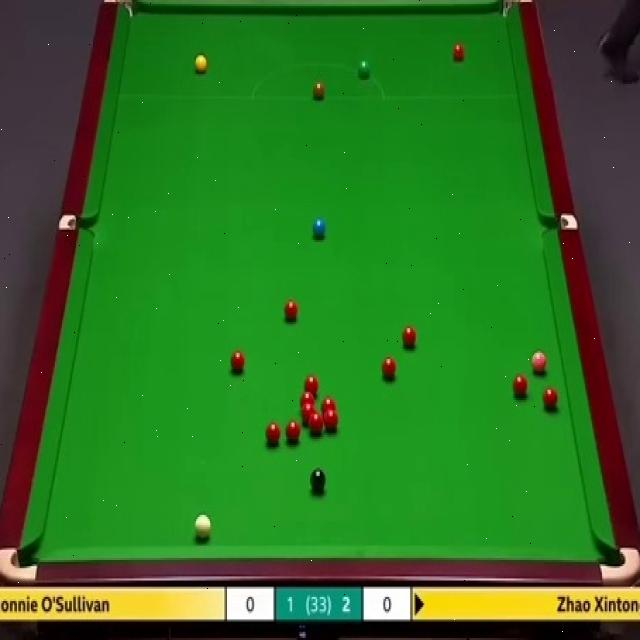black-ball: (310, 466, 326, 496)
blue-ball: (311, 218, 327, 239)
brown-ball: (312, 80, 325, 100)
green-ball: (357, 59, 371, 79)
pink-ball: (531, 349, 547, 375)
red-ball: (229, 348, 247, 376), (284, 418, 302, 446), (264, 420, 280, 446), (323, 408, 339, 434), (542, 387, 560, 410), (402, 324, 418, 349), (514, 374, 530, 398), (381, 356, 396, 381), (283, 300, 299, 322), (302, 374, 320, 392), (309, 411, 323, 434), (301, 404, 315, 423), (300, 390, 314, 407), (452, 45, 464, 62), (322, 399, 336, 412)
white-ball: (192, 514, 210, 544)
yellow-ball: (195, 54, 208, 76)
